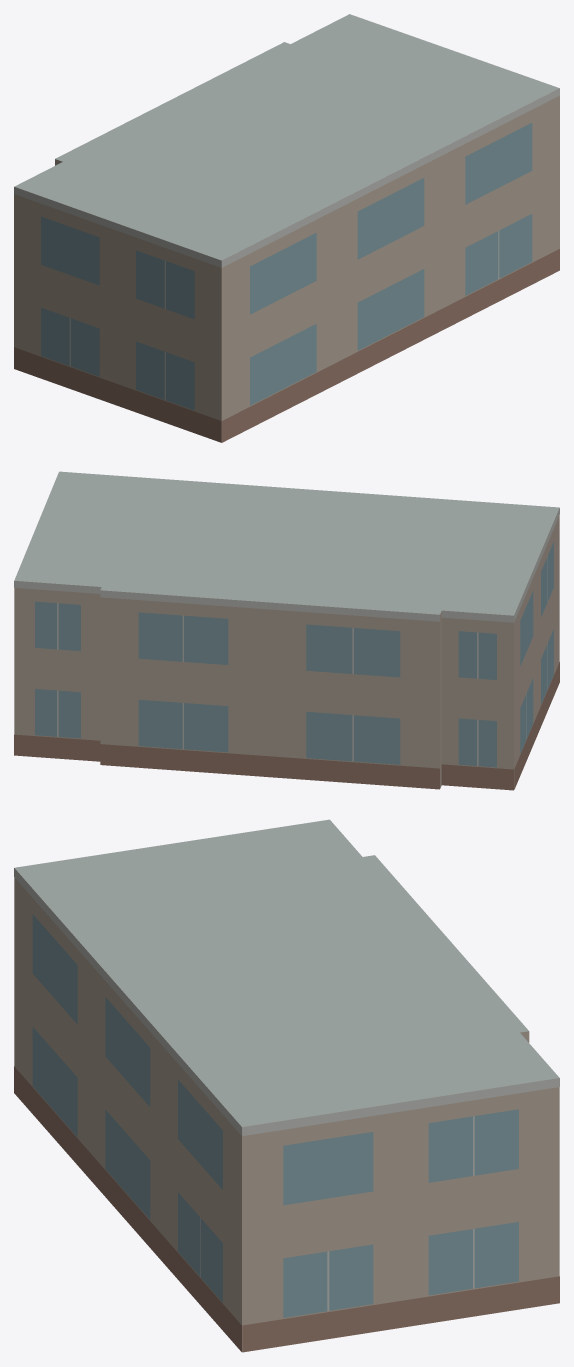
File: survey-upis-32702943.glb
The picture shows the model from 3 angles, top to bottom: view 1: azimuth 30°, elevation 25°; view 2: azimuth 150°, elevation 25°; view 3: azimuth 270°, elevation 25°; orthographic projection. The views are drawn at different scales.
Visible parts, largest first — view 1: survey-upis-32702943.tmp; view 2: survey-upis-32702943.tmp; view 3: survey-upis-32702943.tmp.
Boxes of the visible parts, x1,y1,x2,y2 form: survey-upis-32702943.tmp: (14,14,559,442); survey-upis-32702943.tmp: (14,471,559,790); survey-upis-32702943.tmp: (14,819,559,1352).
Size of the model in its own units: 17.88 by 6.1 by 13.4.
